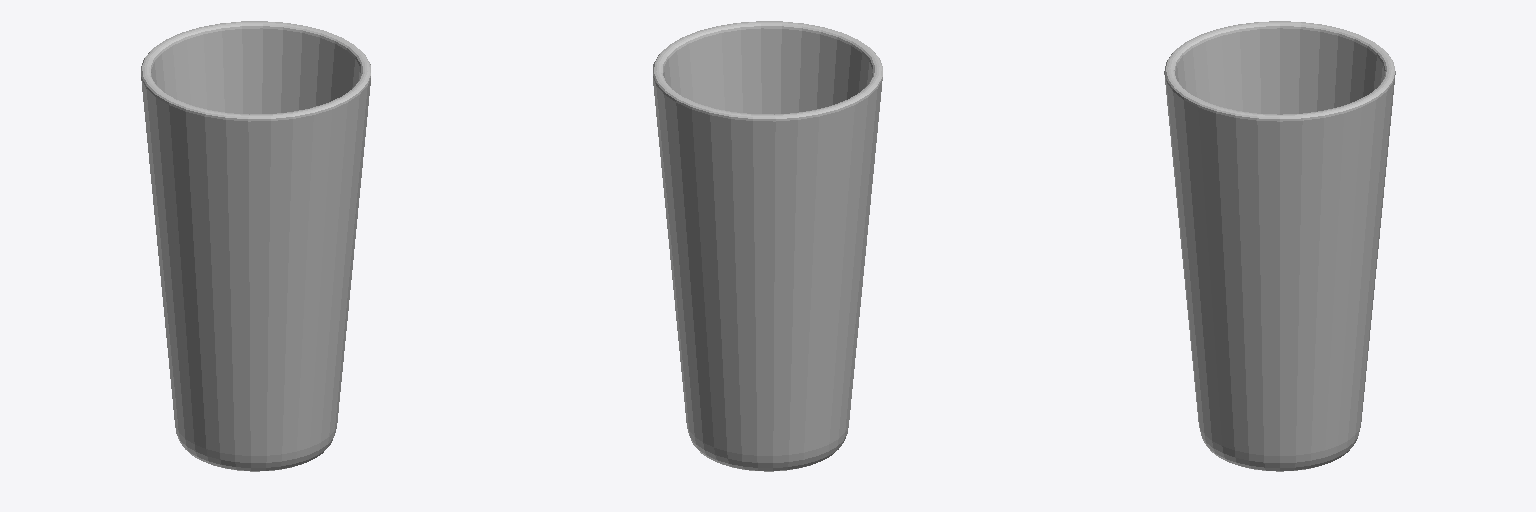
File: Shot glass.obj
3 views of the same model, side by side, from view 1: azimuth 30°, elevation 25°; view 2: azimuth 150°, elevation 25°; view 3: azimuth 270°, elevation 25° (orthographic).
Visible parts, largest first — view 1: Cylinder001; view 2: Cylinder001; view 3: Cylinder001.
Part boxes in pixels (x1,y1,x2,y2): Cylinder001: (141,21,370,471); Cylinder001: (653,21,882,471); Cylinder001: (1164,21,1395,471).
Size of the model in its own units: 345572 by 616588 by 345572.